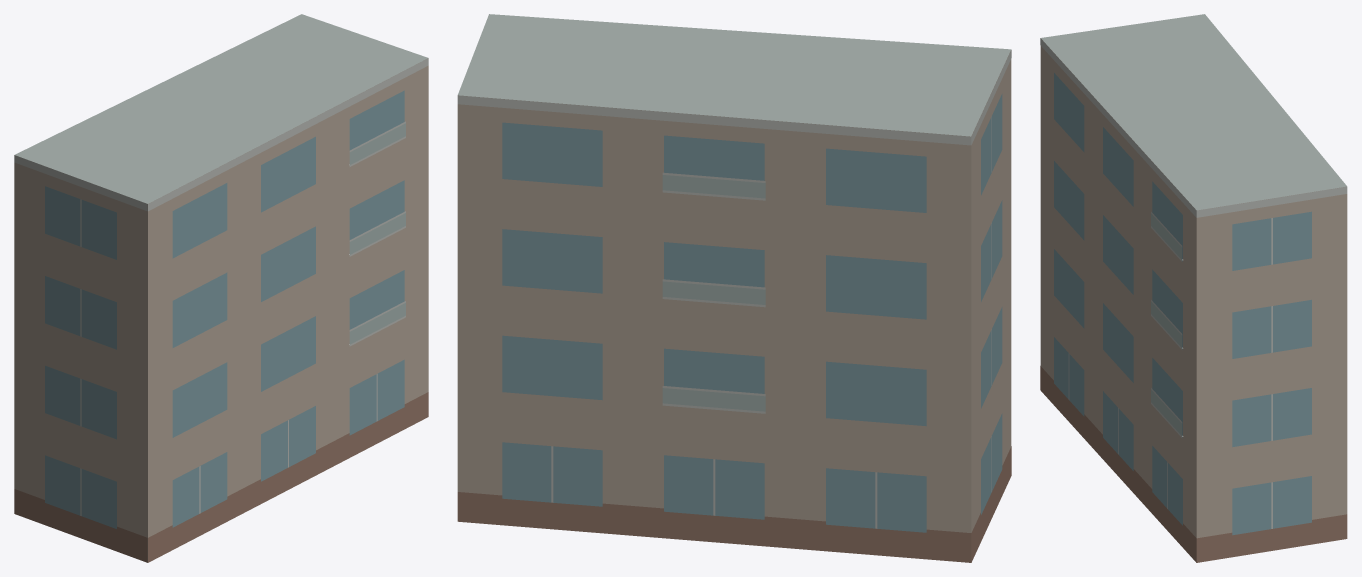
File: survey-upis-32853033.glb
The picture shows the model from 3 angles, left to right: view 1: azimuth 30°, elevation 25°; view 2: azimuth 150°, elevation 25°; view 3: azimuth 270°, elevation 25°; orthographic projection. The views are drawn at different scales.
Visible parts, largest first — view 1: survey-upis-32853033.tmp; view 2: survey-upis-32853033.tmp; view 3: survey-upis-32853033.tmp.
Part boxes in pixels (x1=…): survey-upis-32853033.tmp: x1=14, y1=14, x2=428, y2=562; survey-upis-32853033.tmp: x1=457, y1=14, x2=1011, y2=562; survey-upis-32853033.tmp: x1=1040, y1=14, x2=1347, y2=562.
Size of the model in its own units: 13.94 by 11.65 by 9.2.
